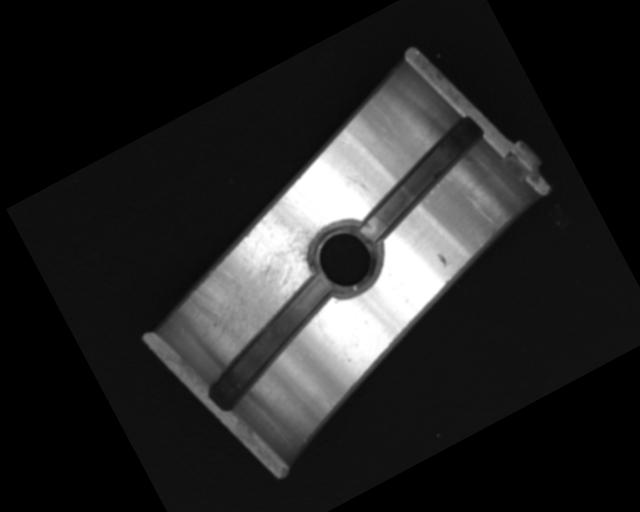bruise: (435, 249, 450, 268)
gap: (185, 273, 358, 415), (336, 112, 503, 244)
hole: (295, 207, 397, 310)
nick: (463, 188, 498, 234), (344, 166, 381, 209)
scratch: (157, 178, 359, 364)
